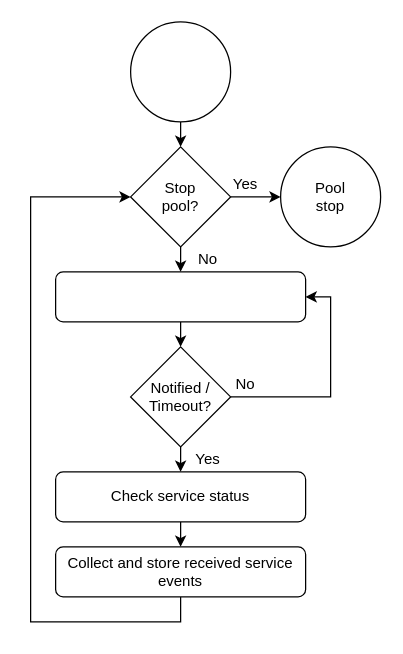
Image size: 403x654. Some labels were removed from this diagram. The box of each missing label's shape, as (x1, y1, x2, y2) in pixels:
Pool start: (129, 21, 231, 122)
Wait for service notification / Wait for notification timeout: (54, 271, 306, 322)
